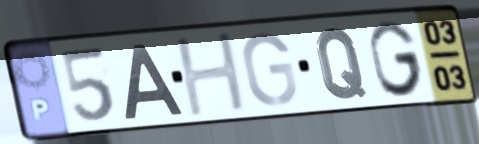5: (57, 44, 118, 125)
A: (121, 41, 186, 122)
G: (366, 18, 428, 100), (239, 30, 300, 109)
H: (171, 29, 251, 121)
Q: (313, 24, 370, 103)
